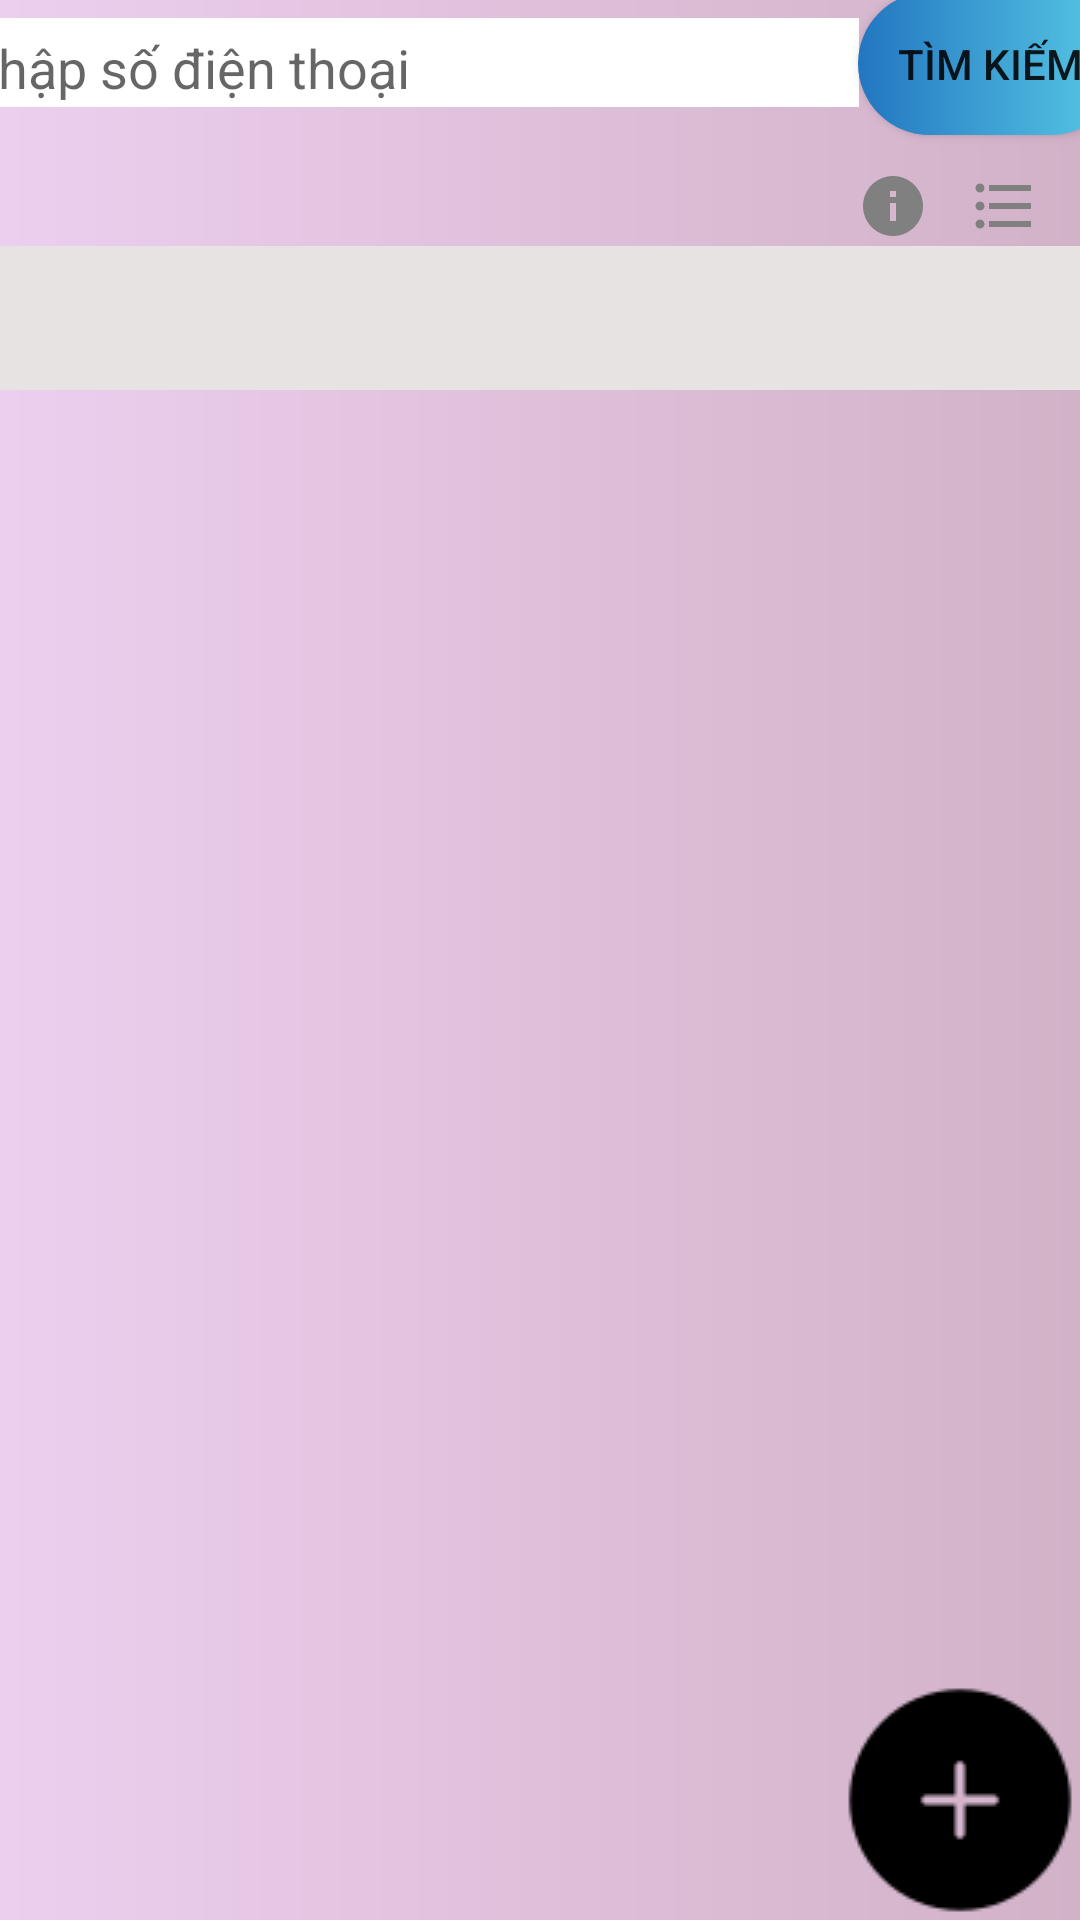

Named icons in this screenshot (1080px x 1920px) and their centers, (x,y):
add: (960,1800)
info: (893,206)
list: (1003,206)
